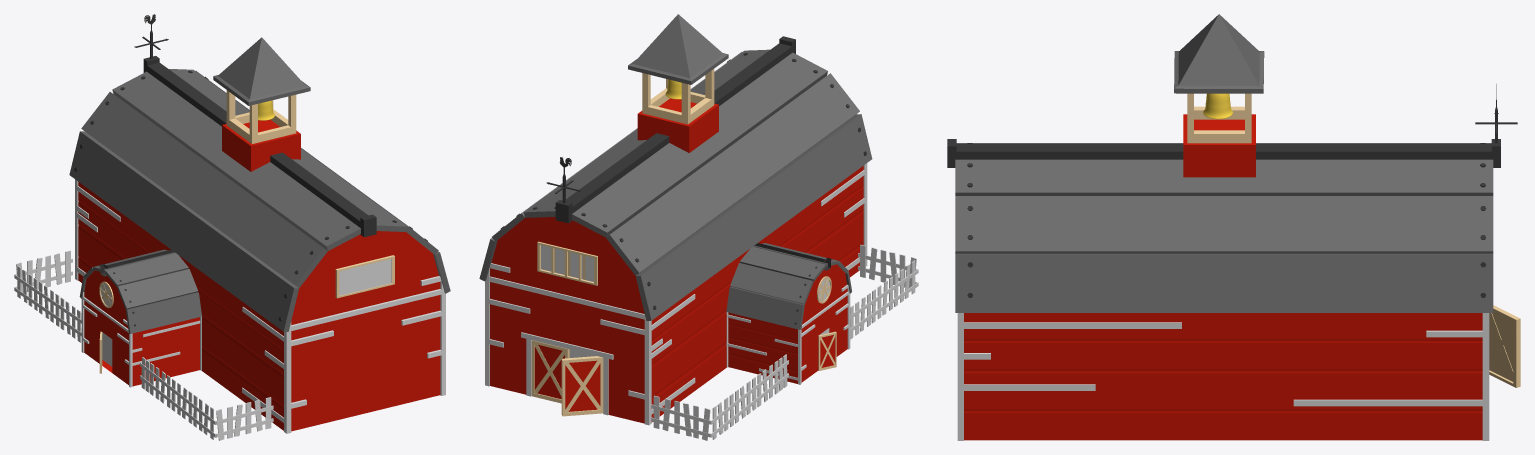
File: Barn.fbx
The picture shows the model from 3 angles, left to right: view 1: azimuth 30°, elevation 25°; view 2: azimuth 150°, elevation 25°; view 3: azimuth 270°, elevation 25°; orthographic projection. The views are drawn at different scales.
Parts seen in each view (by area): view 1: Cube, Cube.031, Cube.037, Cube.006, Cube.001, Cone, Cube.009, Cube.008, Cube.002, Cube.003, Cube.004; view 2: Cube, Cube.006, Cube.031, Cube.037, Cube.001, Cone, Cube.008, Cube.009, Cube.012, Cube.002, Cube.003, Cube.013 (+3 smaller); view 3: Cube, Cube.001, Cube.006, Cone, Cube.002, Cube.012, Cube.003, Circle.001.
Part boxes in pixels (<box>): Cube: <box>69,69,450,431</box>; Cube.031: <box>84,270,199,386</box>; Cube.037: <box>79,249,201,333</box>; Cube.006: <box>75,179,445,433</box>; Cube.001: <box>143,56,376,237</box>; Cone: <box>213,37,310,105</box>; Cube.009: <box>140,357,273,440</box>; Cube.008: <box>14,250,81,342</box>; Cube.002: <box>222,119,300,171</box>; Cube.003: <box>226,90,296,143</box>; Cube.004: <box>335,255,394,298</box>; Cube: <box>479,49,872,423</box>; Cube.006: <box>485,163,867,425</box>; Cube.031: <box>728,264,847,383</box>; Cube.037: <box>726,243,851,329</box>; Cube.001: <box>555,36,795,223</box>; Cone: <box>628,14,728,84</box>; Cube.008: <box>651,354,788,440</box>; Cube.009: <box>850,244,918,339</box>; Cube.012: <box>561,356,603,416</box>; Cube.002: <box>637,98,718,152</box>; Cube.003: <box>642,69,714,124</box>; Cube.013: <box>531,340,569,403</box>; Cube: <box>955,143,1493,440</box>; Cube.001: <box>947,139,1500,167</box>; Cube.006: <box>957,313,1489,440</box>; Cone: <box>1174,14,1264,93</box>; Cube.002: <box>1183,114,1255,177</box>; Cube.012: <box>1489,305,1520,387</box>; Cube.003: <box>1187,93,1251,143</box>; Circle.001: <box>1203,93,1232,119</box>.
Size of the model in its own units: 685 by 822 by 1121.
